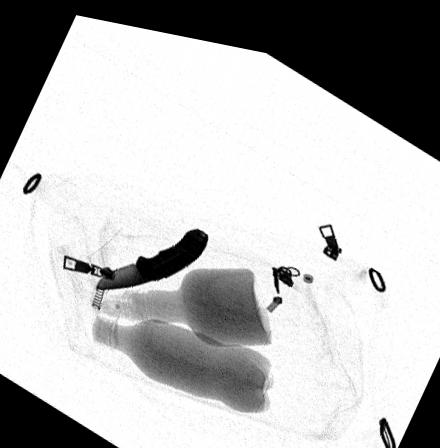Knife: (94, 220, 210, 287)
